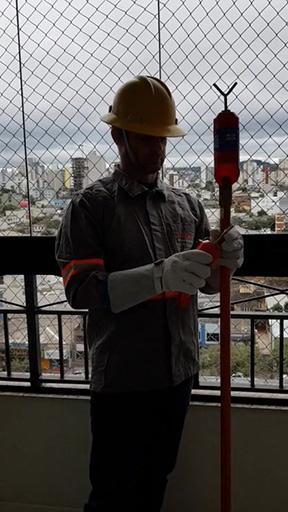Detector_Tensao_Contato: (211, 82, 240, 186)
Vara_Manobra: (217, 185, 235, 512)
